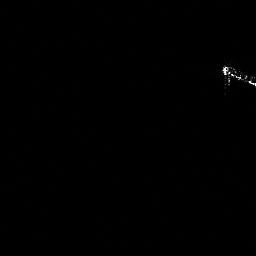ship: (219, 62, 256, 90)
